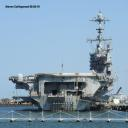Portanaves: (9, 2, 118, 114)
